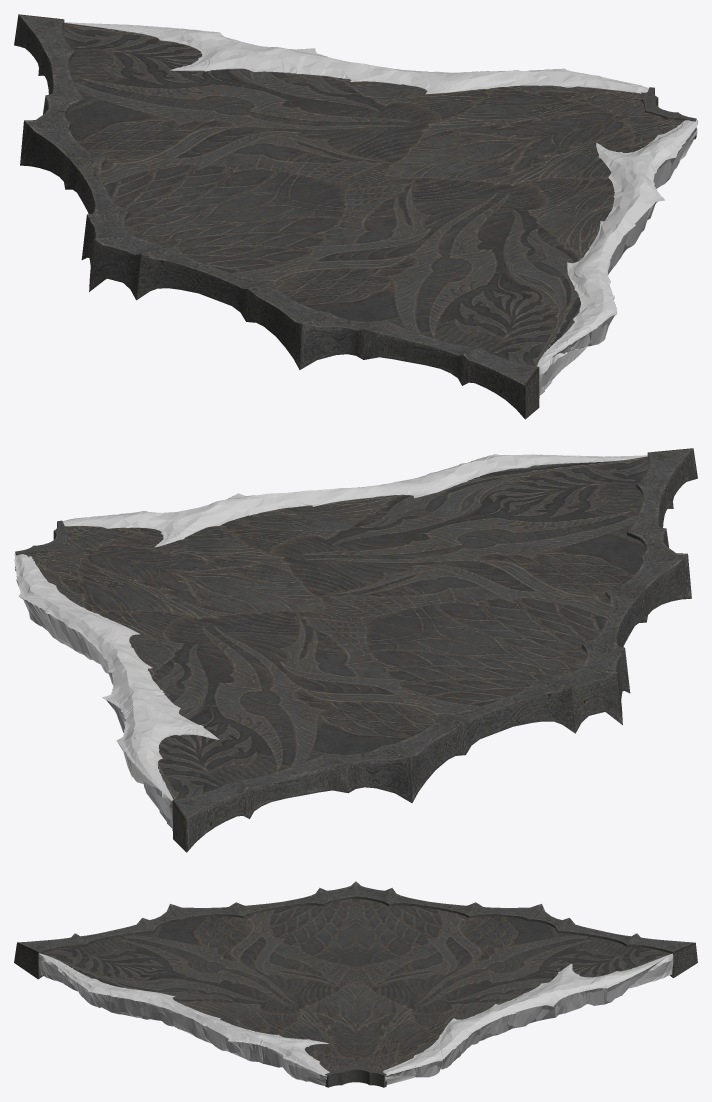
Rendered from bg_rad_kamen_floor05e_sm.obj.
3 views of the same model, one above another, from view 1: azimuth 30°, elevation 25°; view 2: azimuth 150°, elevation 25°; view 3: azimuth 270°, elevation 25° (orthographic). The views are drawn at different scales.
Visible parts, largest first — view 1: bg_rad_kamen_floor05e_sm_0, bg_rad_kamen_floor05e_sm_3, bg_rad_kamen_floor05e_sm_1, bg_rad_kamen_floor05e_sm_2; view 2: bg_rad_kamen_floor05e_sm_0, bg_rad_kamen_floor05e_sm_3, bg_rad_kamen_floor05e_sm_1, bg_rad_kamen_floor05e_sm_2; view 3: bg_rad_kamen_floor05e_sm_0, bg_rad_kamen_floor05e_sm_2, bg_rad_kamen_floor05e_sm_1, bg_rad_kamen_floor05e_sm_3.
Boxes of the visible parts, x1=… form: bg_rad_kamen_floor05e_sm_0: x1=63, y1=23, x2=611, y2=366; bg_rad_kamen_floor05e_sm_3: x1=14, y1=14, x2=696, y2=419; bg_rad_kamen_floor05e_sm_1: x1=334, y1=77, x2=683, y2=260; bg_rad_kamen_floor05e_sm_2: x1=64, y1=22, x2=697, y2=397; bg_rad_kamen_floor05e_sm_0: x1=151, y1=456, x2=648, y2=799; bg_rad_kamen_floor05e_sm_3: x1=15, y1=448, x2=697, y2=852; bg_rad_kamen_floor05e_sm_1: x1=24, y1=495, x2=403, y2=676; bg_rad_kamen_floor05e_sm_2: x1=14, y1=454, x2=647, y2=830; bg_rad_kamen_floor05e_sm_0: x1=41, y1=899, x2=671, y2=1024; bg_rad_kamen_floor05e_sm_2: x1=38, y1=953, x2=673, y2=1085; bg_rad_kamen_floor05e_sm_1: x1=175, y1=981, x2=506, y2=1072; bg_rad_kamen_floor05e_sm_3: x1=14, y1=881, x2=697, y2=1087.
Bounding box in the file's own units: 6.03 × 0.5157 × 9.1.
Materials: 4 (3 with a texture image).
